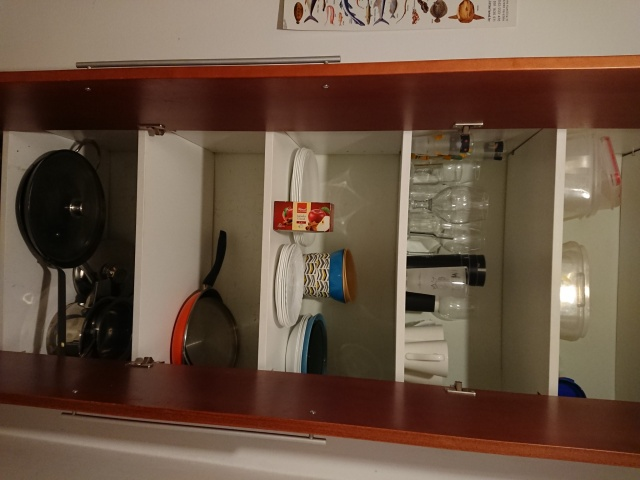Franck Apple Cinnamon Tea 60g: (271, 199, 336, 235)
